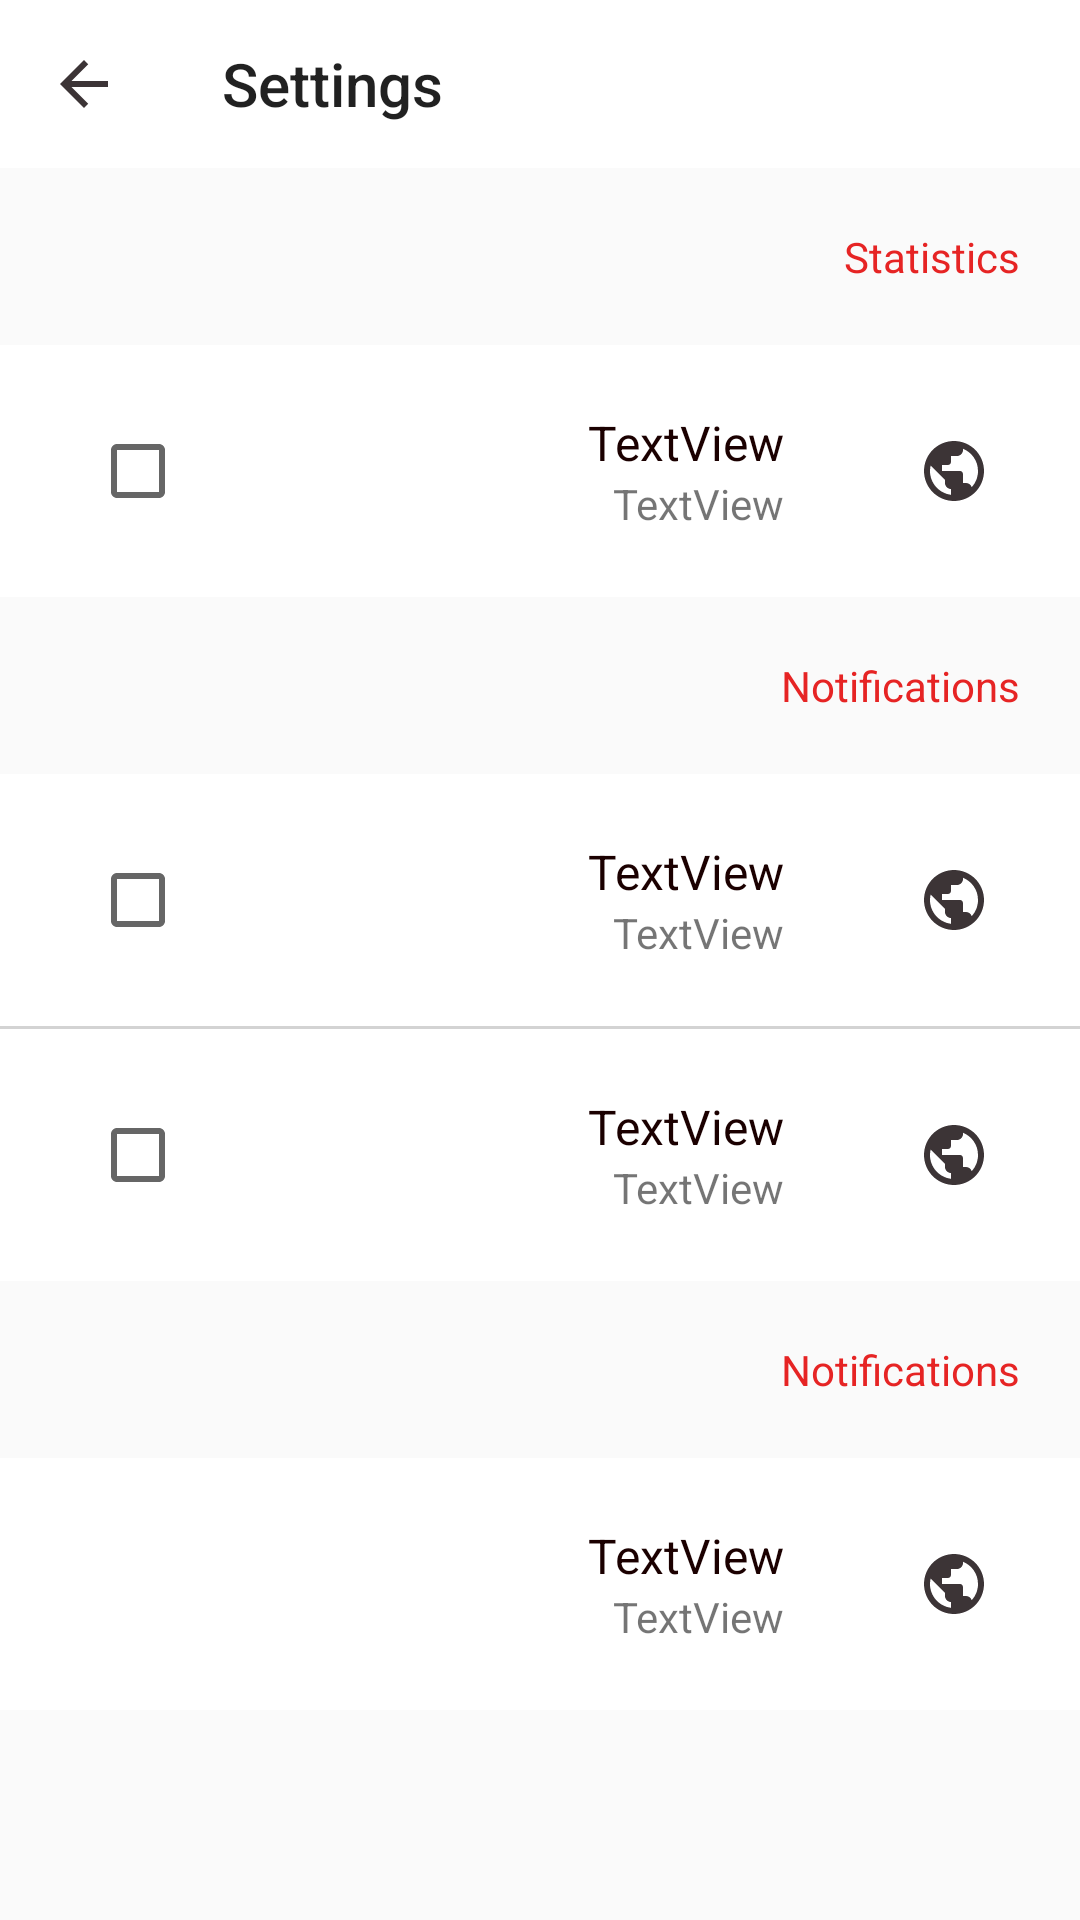

Named icons in this screenshot (1080×1920) and their bounding boxes, (x1, y1, x2, y2):
public: (924, 441, 984, 501), (924, 870, 984, 930), (924, 1125, 984, 1185), (924, 1554, 984, 1614)
